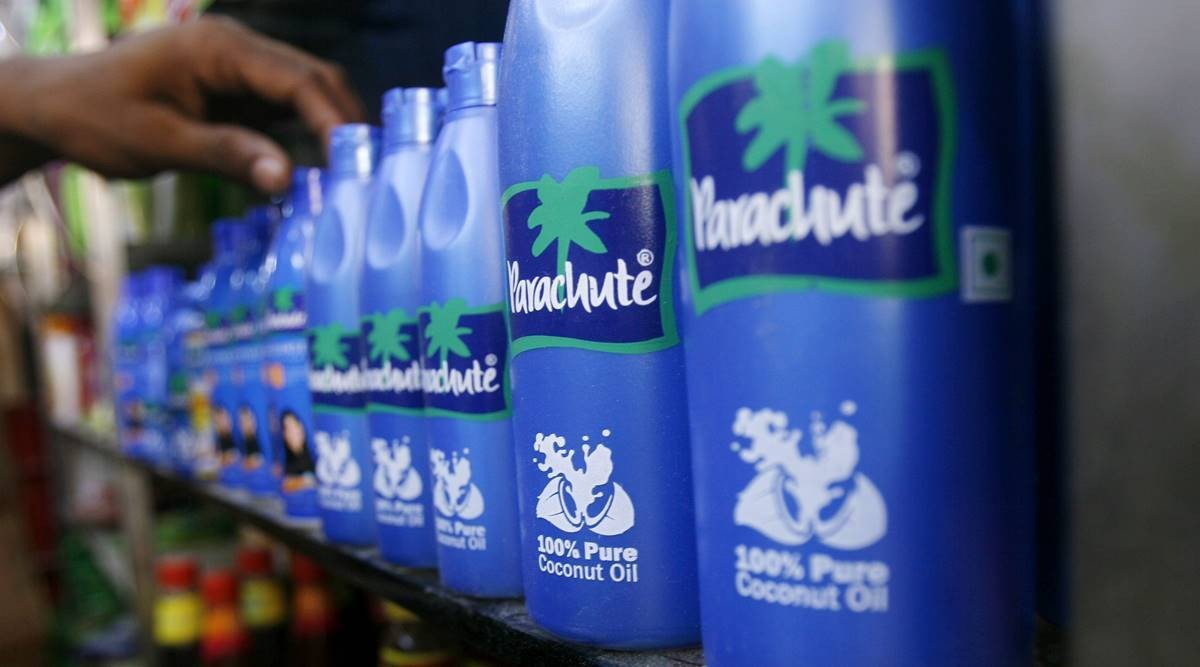parachute: (556, 174, 565, 178)
